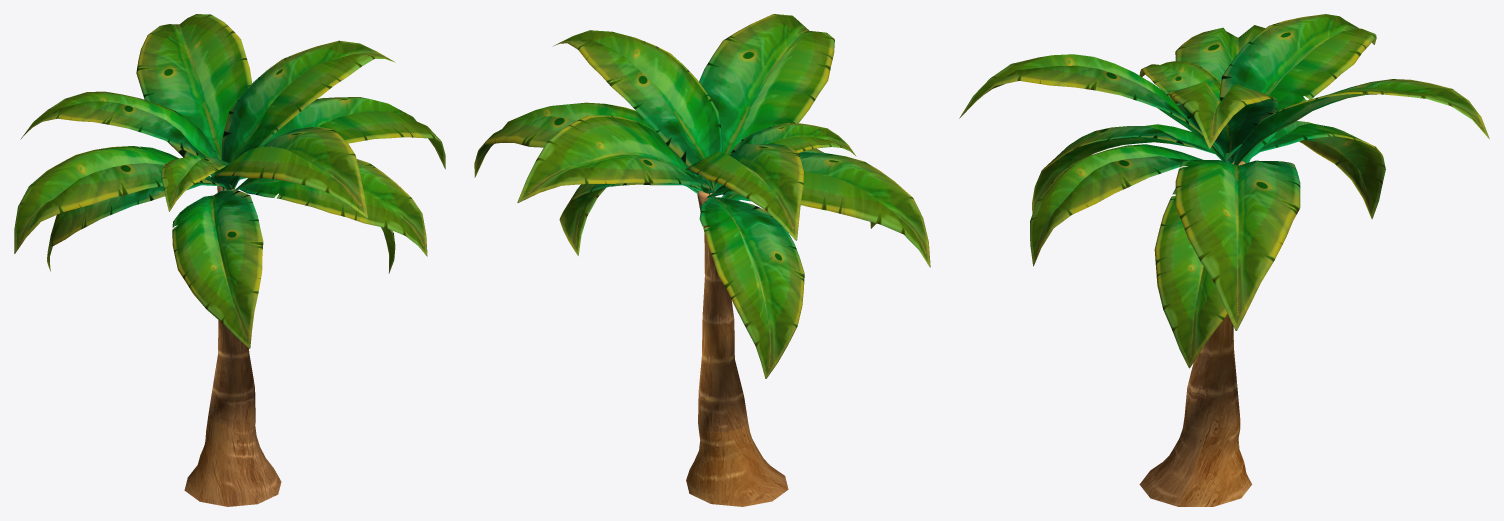
File: Palm_005.fbx
3 renders of one model, left to right at view 1: azimuth 30°, elevation 25°; view 2: azimuth 150°, elevation 25°; view 3: azimuth 270°, elevation 25°, orthographic. The views are drawn at different scales.
Parts seen in each view (by area): view 1: Palm_005_LOD0; view 2: Palm_005_LOD0; view 3: Palm_005_LOD0.
Boxes of the visible parts, box(x1,y1,x2,y2) form: Palm_005_LOD0: box(14, 14, 445, 506); Palm_005_LOD0: box(474, 14, 930, 506); Palm_005_LOD0: box(959, 14, 1489, 506).
Size of what is drawn, in the model's own units: 344 by 306 by 323.
